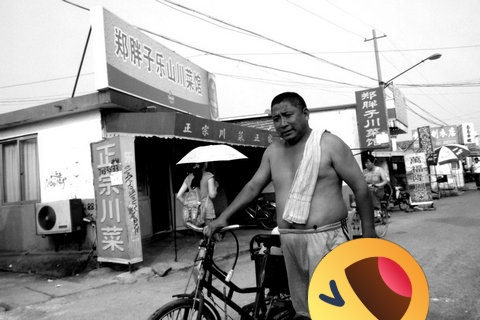haha: (308, 238, 429, 320)
